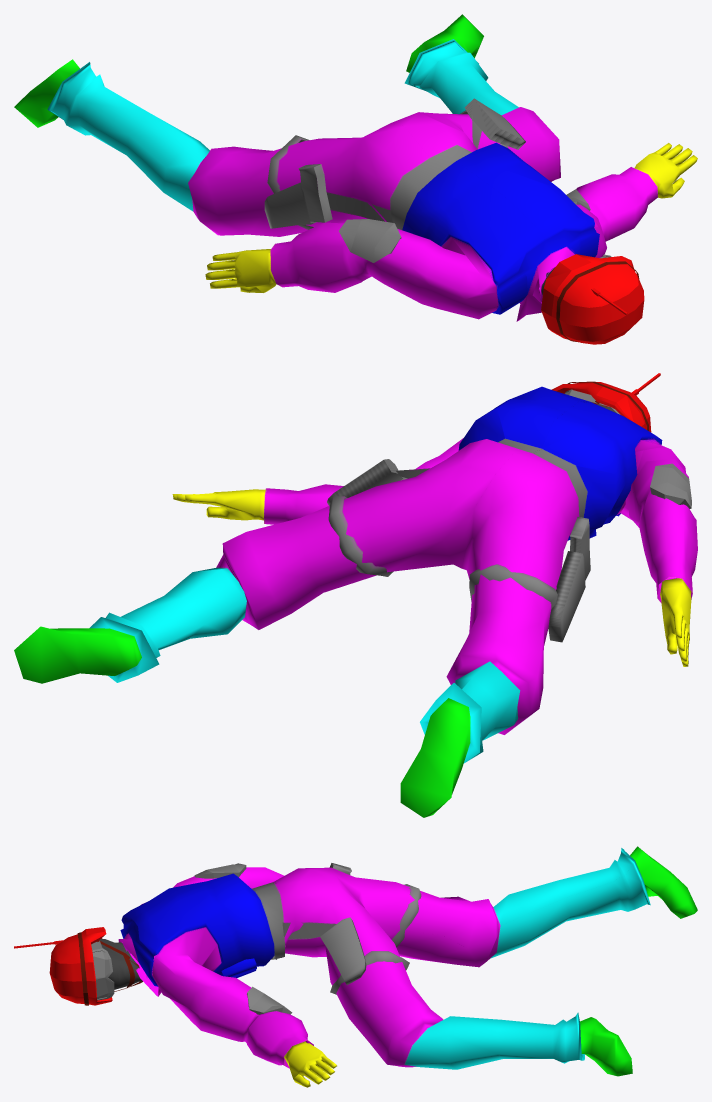
File: Soldier_design_1_posed.fbx
3 renders of one model, top to bottom at view 1: azimuth 30°, elevation 25°; view 2: azimuth 150°, elevation 25°; view 3: azimuth 270°, elevation 25°, orthographic. The views are drawn at different scales.
Parts seen in each view (by area): view 1: Soldier_design_1_Final_Model1; view 2: Soldier_design_1_Final_Model1; view 3: Soldier_design_1_Final_Model1.
Boxes of the visible parts, left/top/right/bottom form: Soldier_design_1_Final_Model1: left=14, top=14, right=697, bottom=344; Soldier_design_1_Final_Model1: left=14, top=373, right=697, bottom=817; Soldier_design_1_Final_Model1: left=14, top=846, right=697, bottom=1087.
Bounding box in the file's own units: 136 × 43.66 × 202.
Materials: 1 (1 with a texture image).
